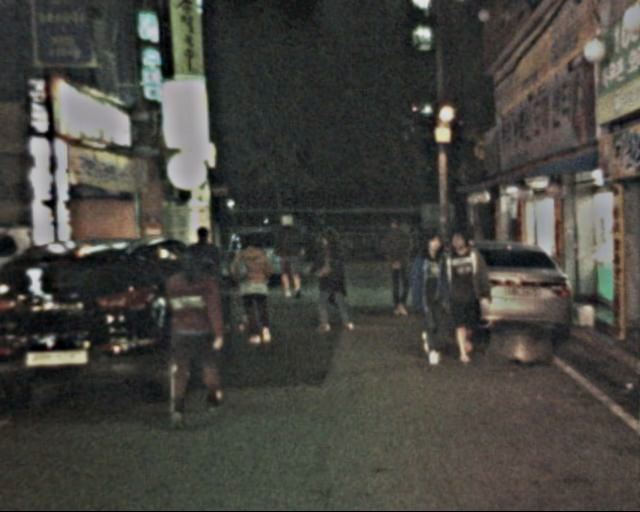person: (155, 251, 225, 421), (405, 233, 463, 368), (179, 228, 233, 347), (437, 230, 490, 351), (229, 232, 282, 347), (307, 224, 356, 340), (379, 218, 418, 313), (272, 209, 310, 302)
